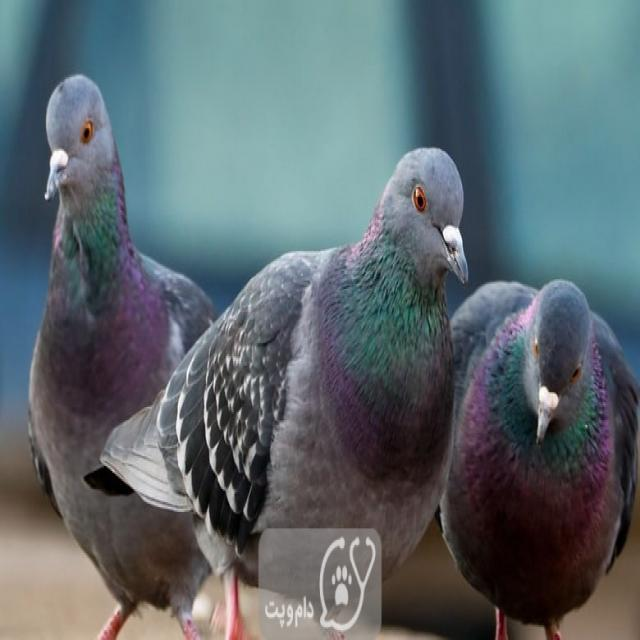bird: (101, 146, 472, 602), (24, 67, 235, 640), (448, 257, 640, 640)
